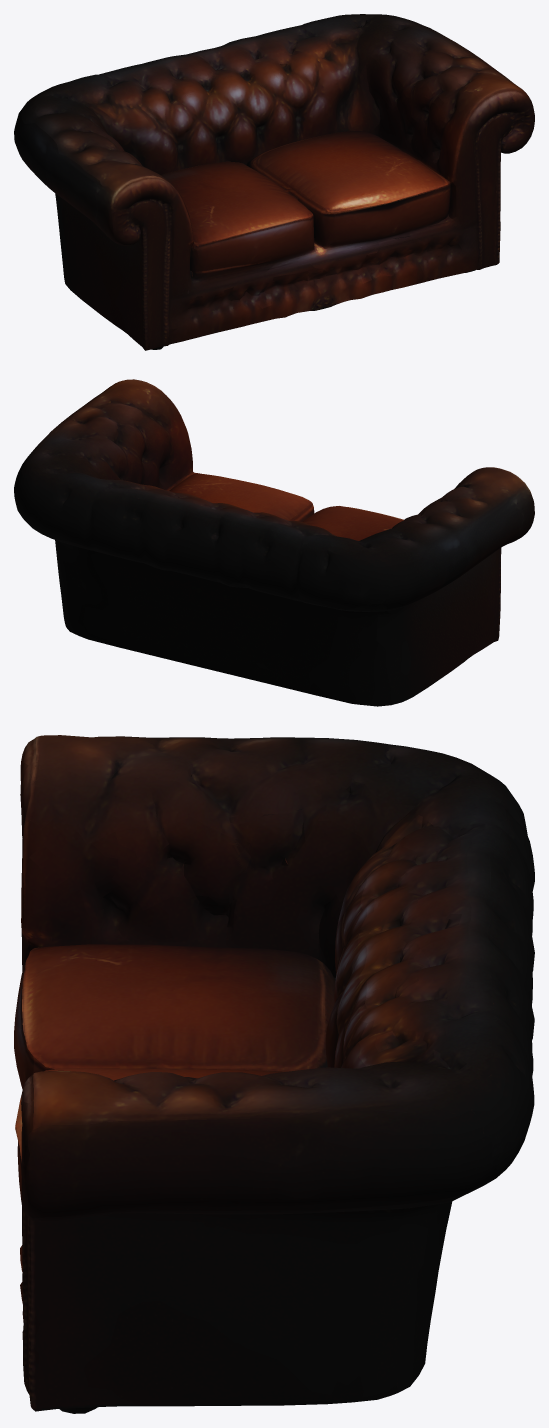
The model's file is sofa.glb.
The picture shows the model from 3 angles, top to bottom: view 1: azimuth 30°, elevation 25°; view 2: azimuth 150°, elevation 25°; view 3: azimuth 270°, elevation 25°; orthographic projection. The views are drawn at different scales.
Parts seen in each view (by area): view 1: geometry_0; view 2: geometry_0; view 3: geometry_0.
Boxes of the visible parts, box(x1,y1,x2,y2) form: geometry_0: box(14, 14, 534, 350); geometry_0: box(14, 379, 534, 706); geometry_0: box(14, 735, 534, 1413).
Size of the model in its own units: 0.9996 by 0.4133 by 0.5523.
1 material, 1 textured.
